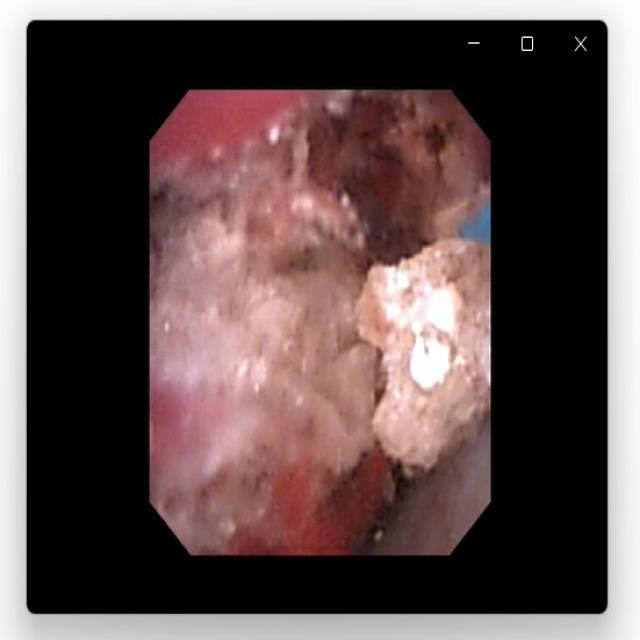stone: (151, 185, 370, 474), (354, 241, 488, 473)
